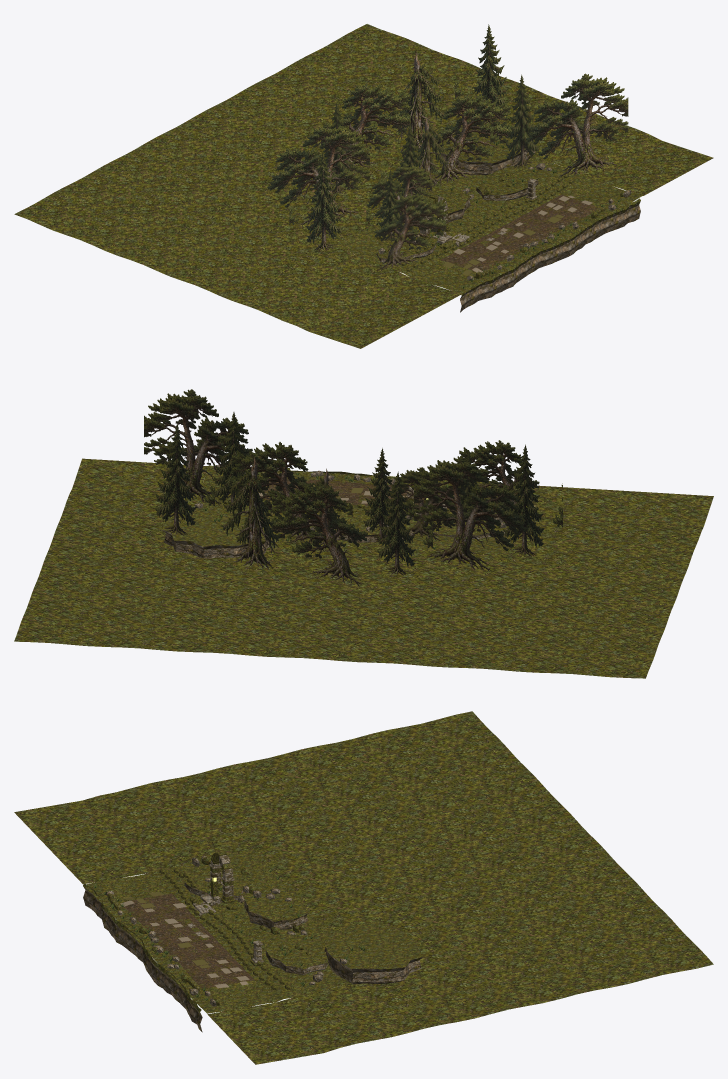
The model's file is mossbound_full_stage.fbx.
The picture shows the model from 3 angles, top to bottom: view 1: azimuth 30°, elevation 25°; view 2: azimuth 150°, elevation 25°; view 3: azimuth 270°, elevation 25°; orthographic projection. The views are drawn at different scales.
Visible parts, largest first — view 1: StageBatch_14, StageBatch_02, StageBatch_10, StageBatch_08, StageBatch_09, StageBatch_12, StageBatch_13, StageBatch_11, StageBatch_00, StageBatch_01, StageBatch_04; view 2: StageBatch_14, StageBatch_10, StageBatch_09, StageBatch_08, StageBatch_12, StageBatch_02, StageBatch_11, StageBatch_00; view 3: StageBatch_14, StageBatch_02, StageBatch_12, StageBatch_00, StageBatch_13, StageBatch_01, StageBatch_04, StageBatch_05.
Part boxes in pixels (x1,y1,x2,y2): StageBatch_14: (14, 24, 713, 348); StageBatch_02: (334, 154, 642, 294); StageBatch_10: (267, 73, 628, 226); StageBatch_08: (331, 82, 511, 271); StageBatch_09: (289, 24, 540, 251); StageBatch_12: (375, 123, 539, 262); StageBatch_13: (460, 198, 640, 312); StageBatch_11: (384, 52, 447, 187); StageBatch_00: (376, 172, 626, 278); StageBatch_01: (420, 178, 592, 272); StageBatch_04: (378, 140, 630, 280); StageBatch_14: (14, 458, 713, 678); StageBatch_10: (144, 389, 527, 571); StageBatch_09: (155, 412, 563, 575); StageBatch_08: (231, 440, 539, 586); StageBatch_12: (162, 500, 508, 558); StageBatch_02: (194, 465, 532, 554); StageBatch_11: (221, 457, 352, 570); StageBatch_00: (215, 467, 500, 532); StageBatch_14: (14, 711, 713, 1064); StageBatch_02: (83, 849, 351, 1013); StageBatch_12: (183, 857, 422, 984); StageBatch_00: (107, 851, 311, 1005); StageBatch_13: (83, 883, 202, 1032); StageBatch_01: (120, 855, 263, 988); StageBatch_04: (106, 856, 347, 1006); StageBatch_05: (93, 859, 365, 1000).
Bounding box in the file's own units: 8502 × 1918 × 7601.
13 materials, 11 textured.
